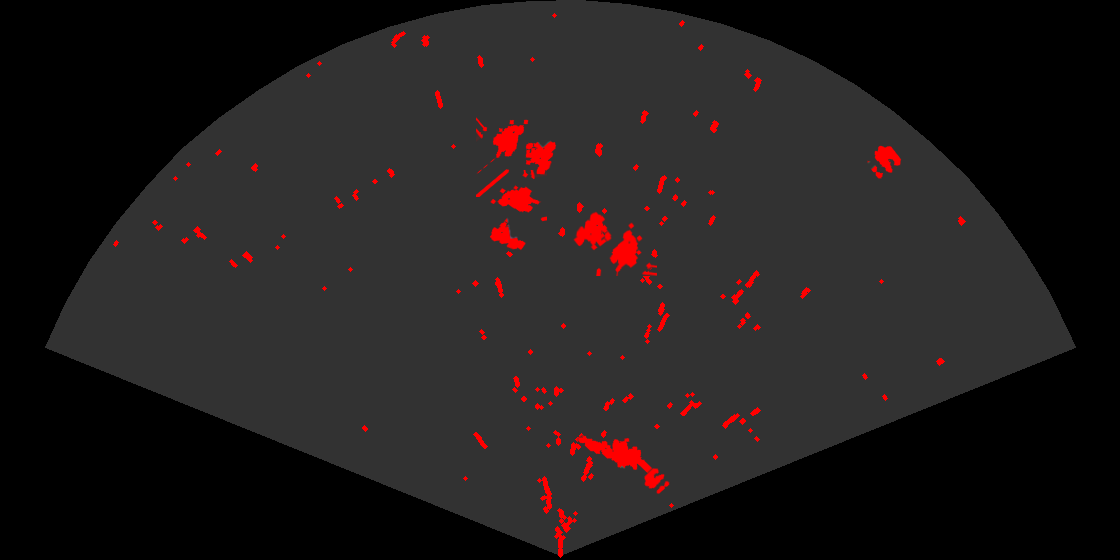ball: (866, 144, 903, 180), (643, 467, 671, 496)
cage: (476, 116, 558, 197), (572, 210, 657, 276), (488, 170, 547, 252)
frogman: (577, 434, 654, 480)
